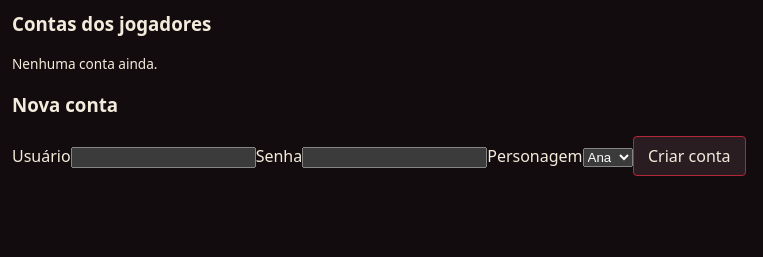
AccountsPanel › mapeia o erro character_taken
The width and height of the screenshot is (763, 257).
Check: the text "Nenhuma conta ainda." is shown, box [12, 54, 158, 73]
In the field labelled "Usuário": (163, 157) [71, 147, 256, 168], type "beto"
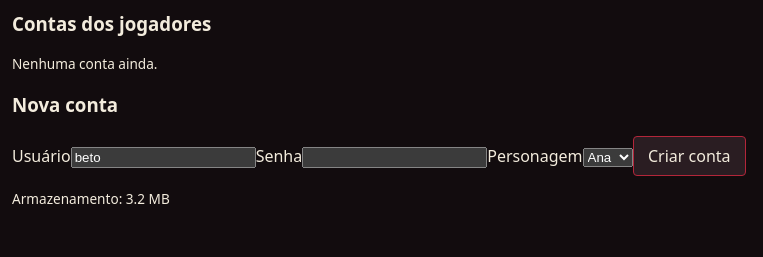
In the password field labelled "Senha": (395, 157) [302, 147, 487, 168], type "segredo1"
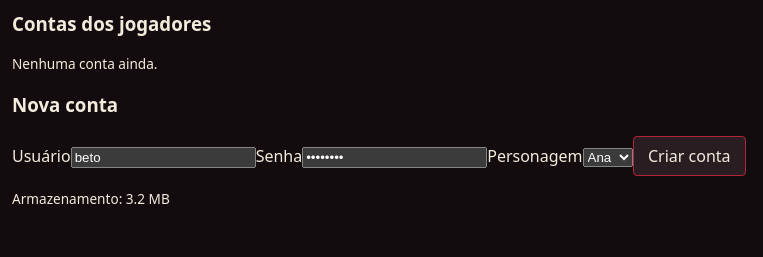
Click the button "Criar conta": (689, 156) [633, 136, 746, 176]
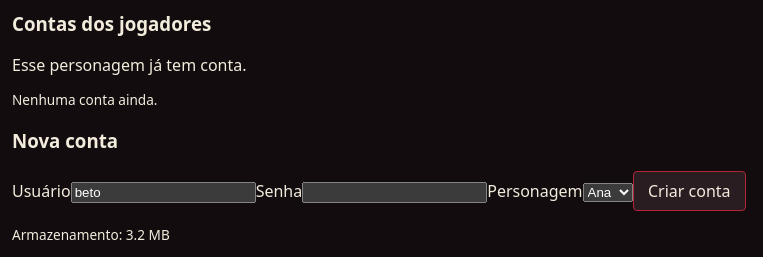
Check: the message reads "Esse personagem já tem conta.", box [12, 54, 246, 76]
